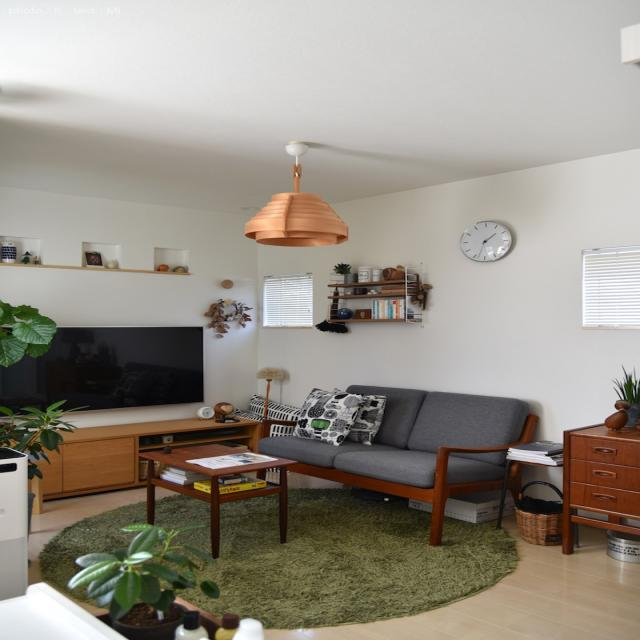vintage desk: (130, 444, 300, 554)
vintage shelf: (567, 420, 640, 567)
vintage sofa: (265, 380, 534, 544)
